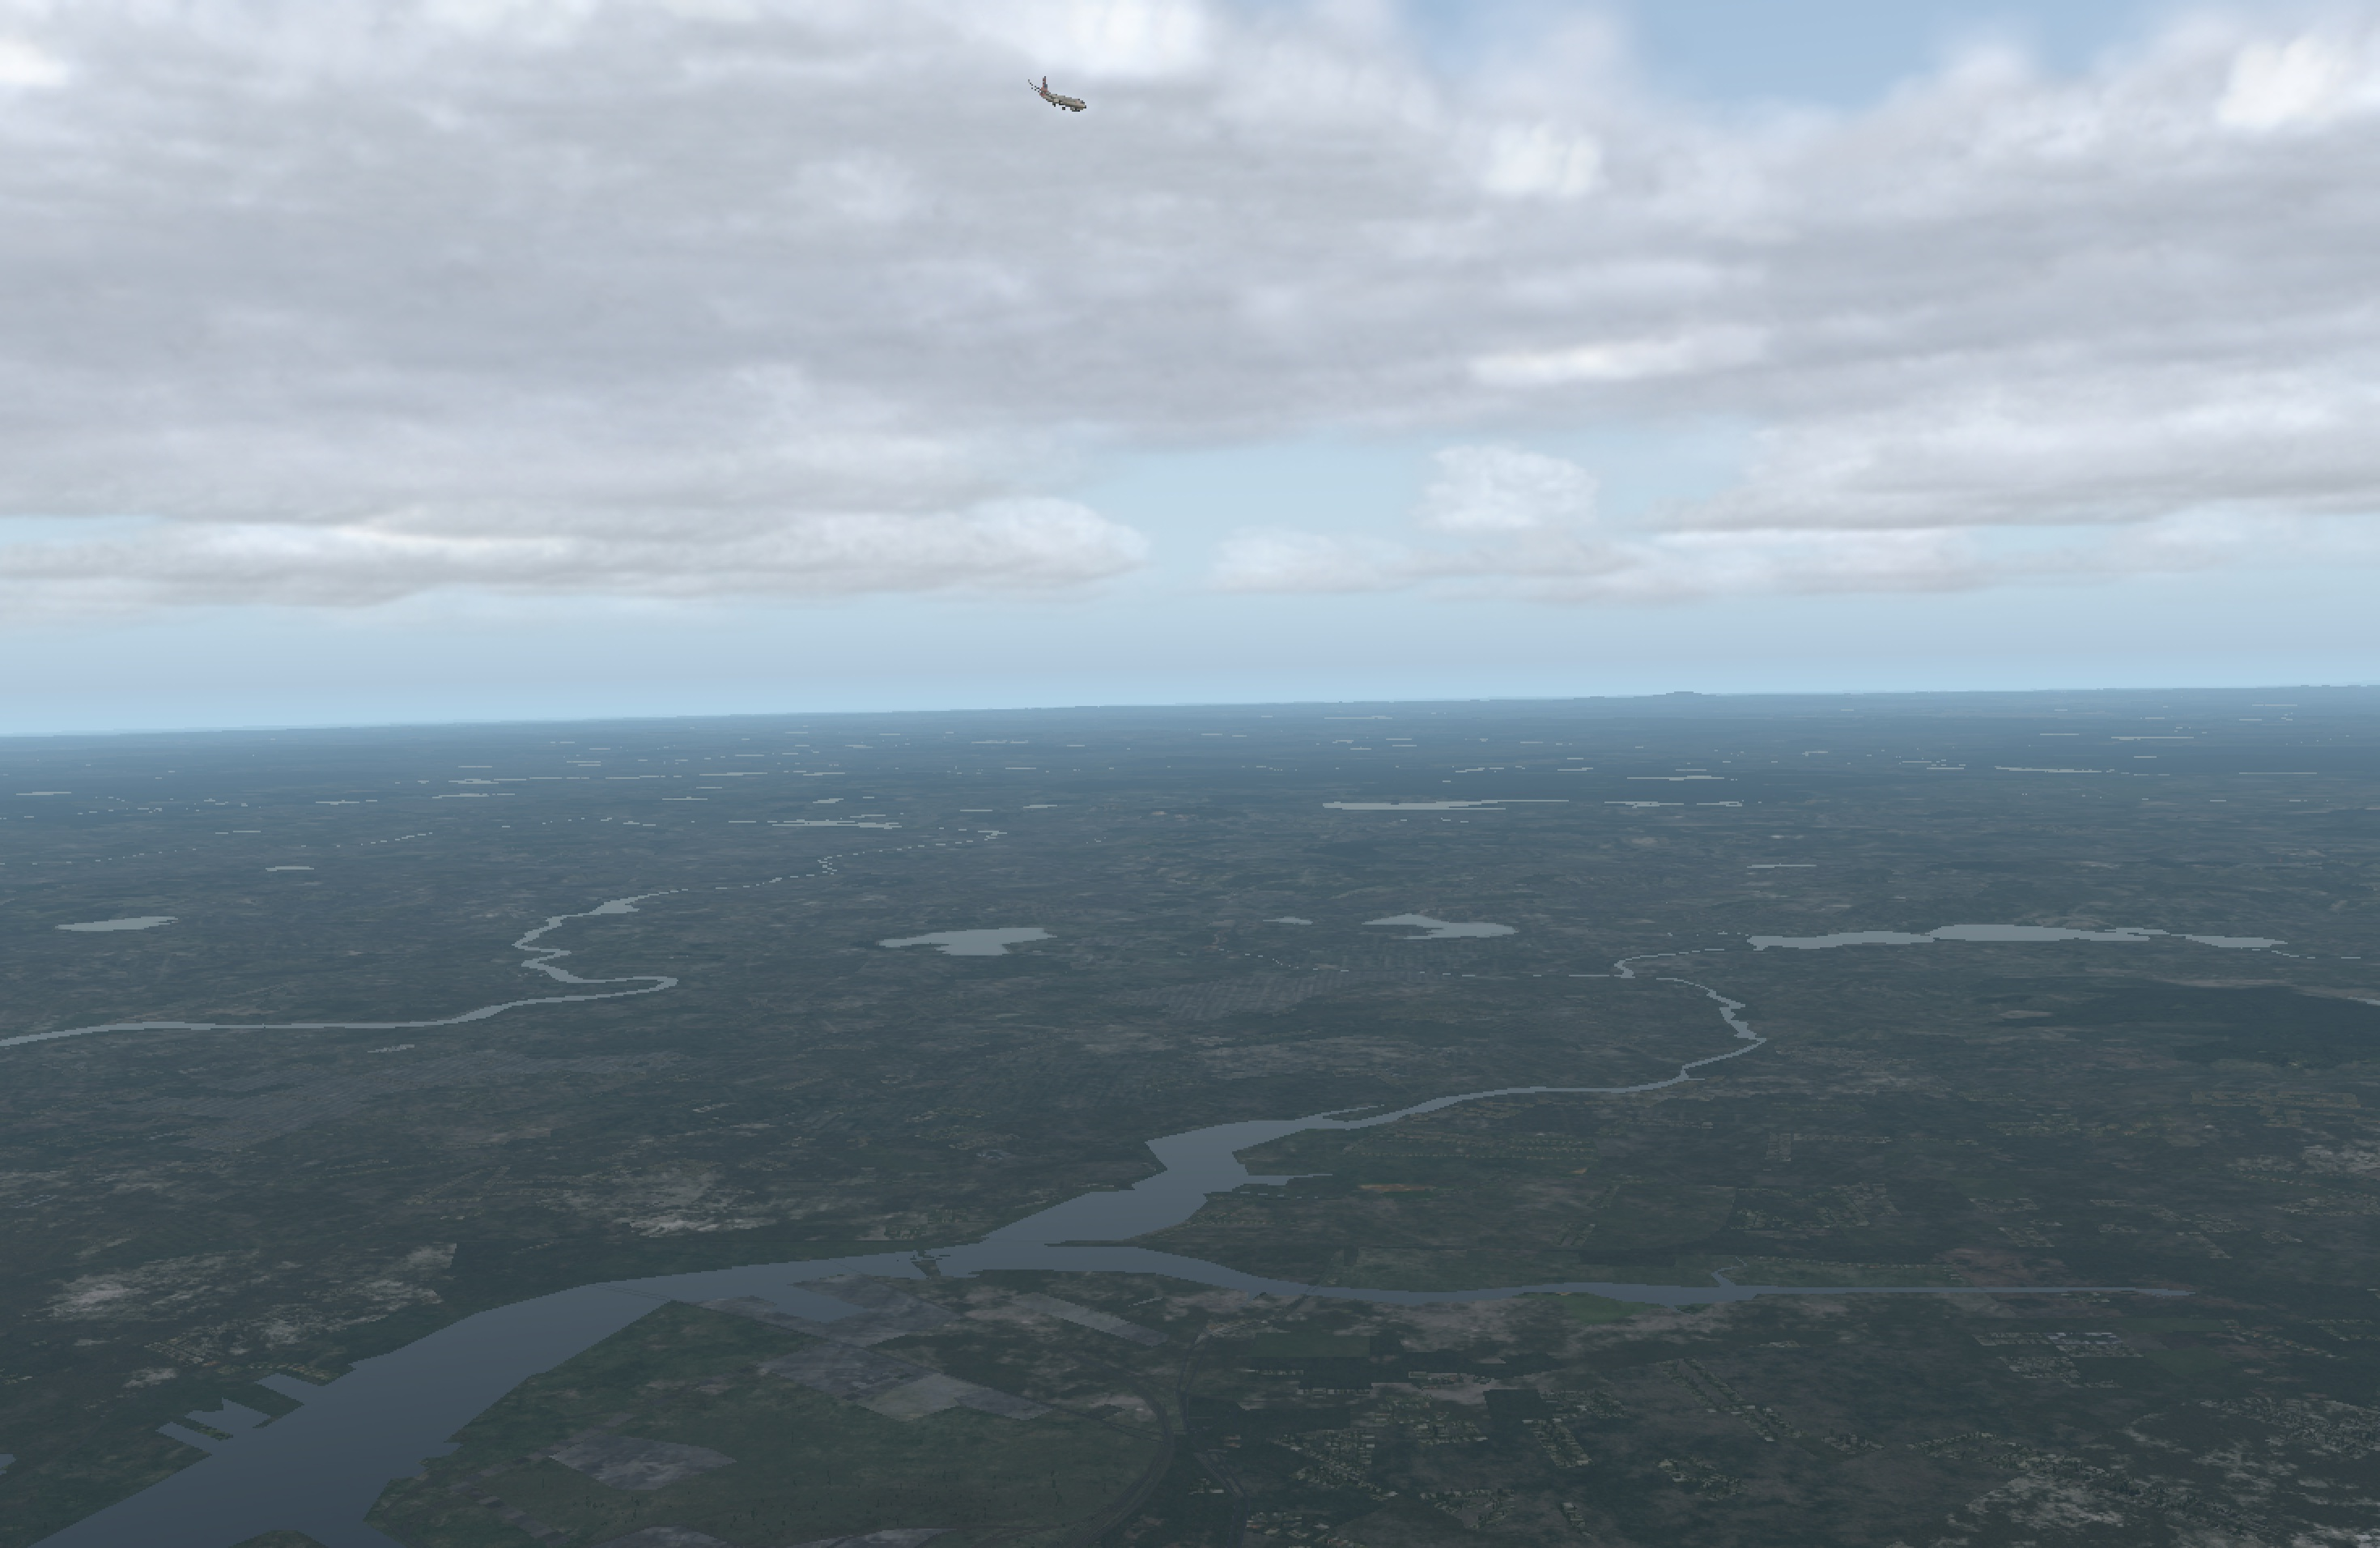aircraft: (1022, 87, 1103, 118)
